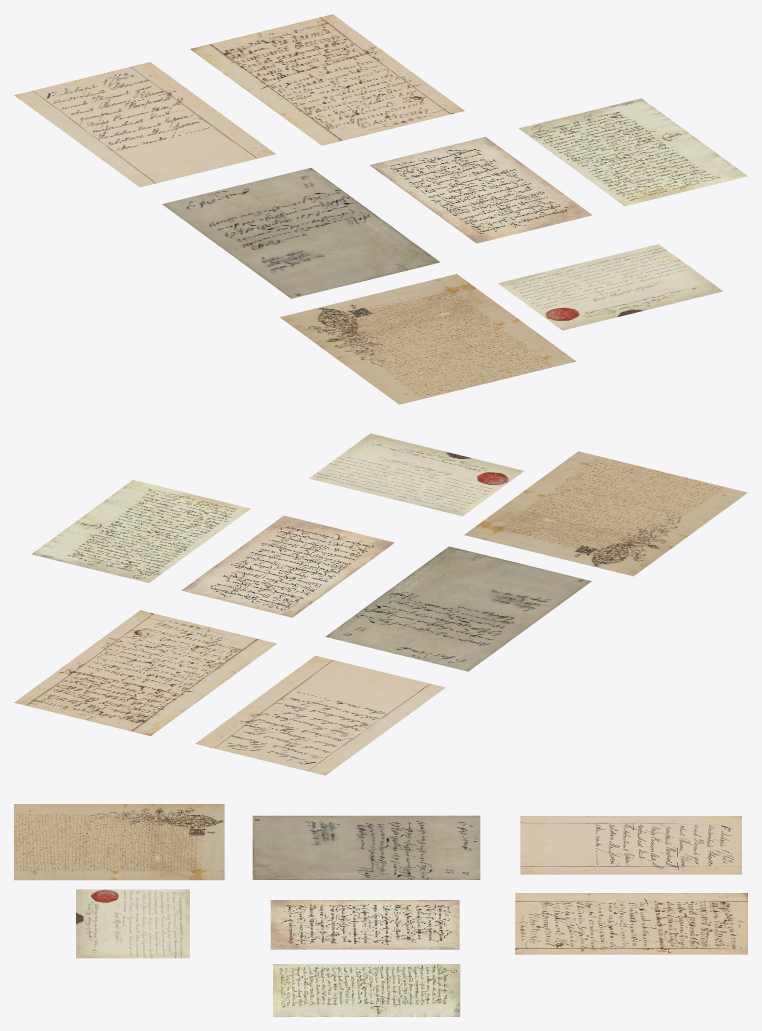
Rendered from old_papers.glb.
3 renders of one model, top to bottom at view 1: azimuth 30°, elevation 25°; view 2: azimuth 150°, elevation 25°; view 3: azimuth 270°, elevation 25°, orthographic. The views are drawn at different scales.
Visible parts, largest first — view 1: paper_7, paper_1, paper_5, paper_6, paper_2, paper_4, paper_3; view 2: paper_7, paper_1, paper_5, paper_6, paper_2, paper_4, paper_3; view 3: paper_7, paper_1, paper_5, paper_6, paper_2, paper_4, paper_3.
Part boxes in pixels (x1,y1,x2,y2): paper_7: [280, 274, 576, 404]; paper_1: [162, 167, 440, 298]; paper_5: [190, 14, 464, 145]; paper_6: [14, 62, 275, 187]; paper_2: [519, 98, 747, 205]; paper_4: [369, 137, 592, 243]; paper_3: [498, 244, 722, 330]; paper_7: [464, 451, 747, 576]; paper_1: [325, 546, 591, 671]; paper_5: [14, 610, 276, 735]; paper_6: [195, 655, 445, 775]; paper_2: [31, 480, 250, 582]; paper_4: [181, 515, 394, 617]; paper_3: [309, 433, 523, 516]; paper_7: [14, 804, 224, 880]; paper_1: [252, 815, 480, 879]; paper_5: [515, 893, 747, 954]; paper_6: [520, 816, 741, 874]; paper_2: [273, 964, 460, 1016]; paper_4: [270, 900, 459, 949]; paper_3: [76, 889, 189, 958].
Bounding box in the file's own units: 0.5789 × 8.24e-08 × 0.8432.
Materials: 1 (1 with a texture image).
